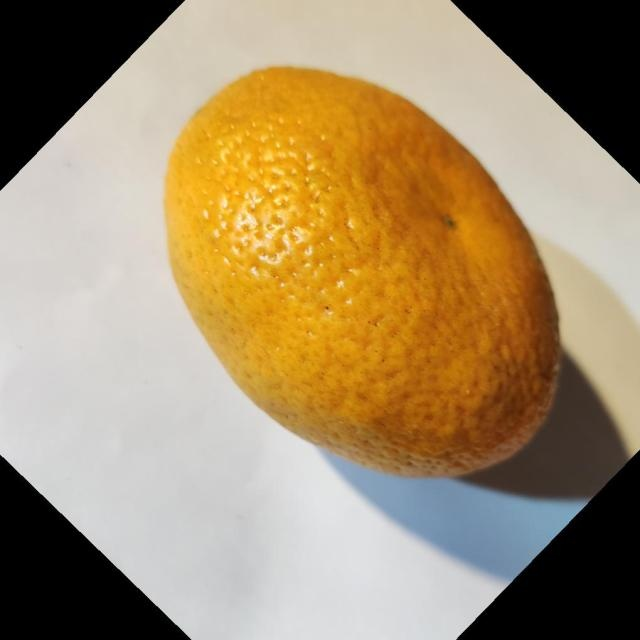agrume: (162, 64, 562, 479)
